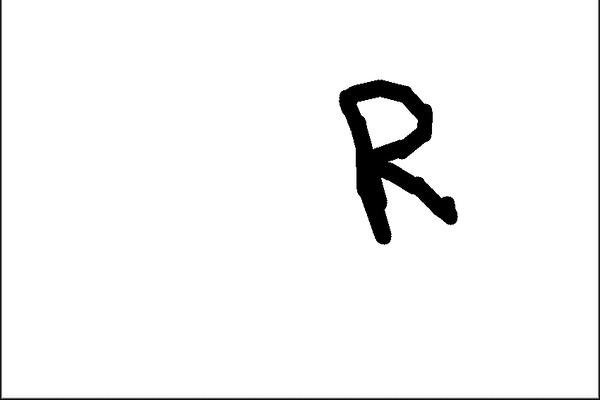R: (327, 76, 477, 246)
